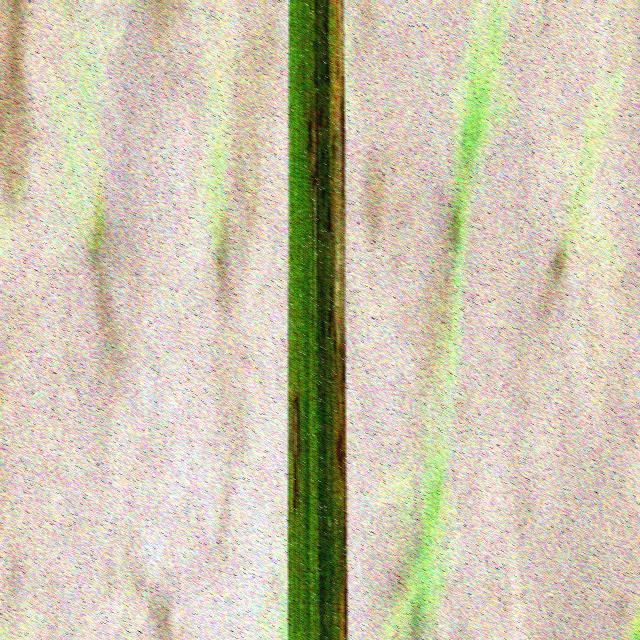BLB: (326, 0, 348, 640)
